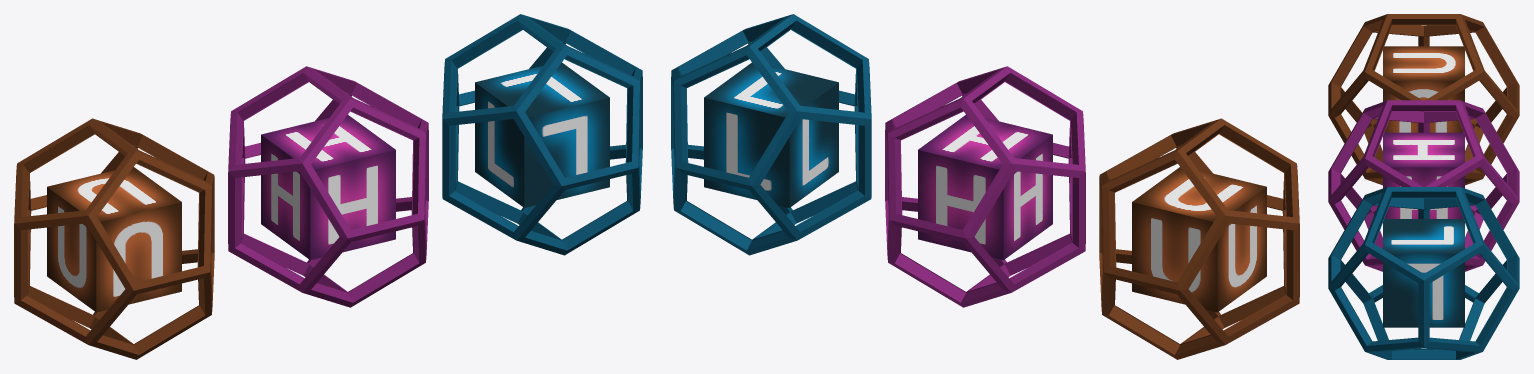
File: item.fbx
3 views of the same model, side by side, from view 1: azimuth 30°, elevation 25°; view 2: azimuth 150°, elevation 25°; view 3: azimuth 270°, elevation 25° (orthographic). The views are drawn at different scales.
Parts seen in each view (by area): view 1: H_shell.002, H_shell.001, H_shell, U, H, L; view 2: H_shell.002, H_shell.001, H_shell, U, H, L; view 3: H_shell.001, H_shell.002, H_shell, L, U, H.
Boxes of the visible parts, <box> form: H_shell.002: <box>14,118,214,359</box>; H_shell.001: <box>442,14,642,255</box>; H_shell: <box>228,66,428,307</box>; U: <box>47,167,181,312</box>; H: <box>261,115,395,260</box>; L: <box>475,62,609,207</box>; H_shell.002: <box>1099,118,1299,359</box>; H_shell.001: <box>671,14,871,255</box>; H_shell: <box>885,66,1085,307</box>; U: <box>1132,167,1266,312</box>; H: <box>918,115,1052,260</box>; L: <box>704,62,838,207</box>; H_shell.001: <box>1328,187,1519,359</box>; H_shell.002: <box>1328,14,1519,185</box>; H_shell: <box>1328,100,1519,271</box>; L: <box>1383,219,1464,327</box>; U: <box>1383,46,1464,132</box>; H: <box>1383,132,1464,218</box>.
Size of the model in its own units: 587 by 187 by 187.
Materials: 1 (1 with a texture image).
